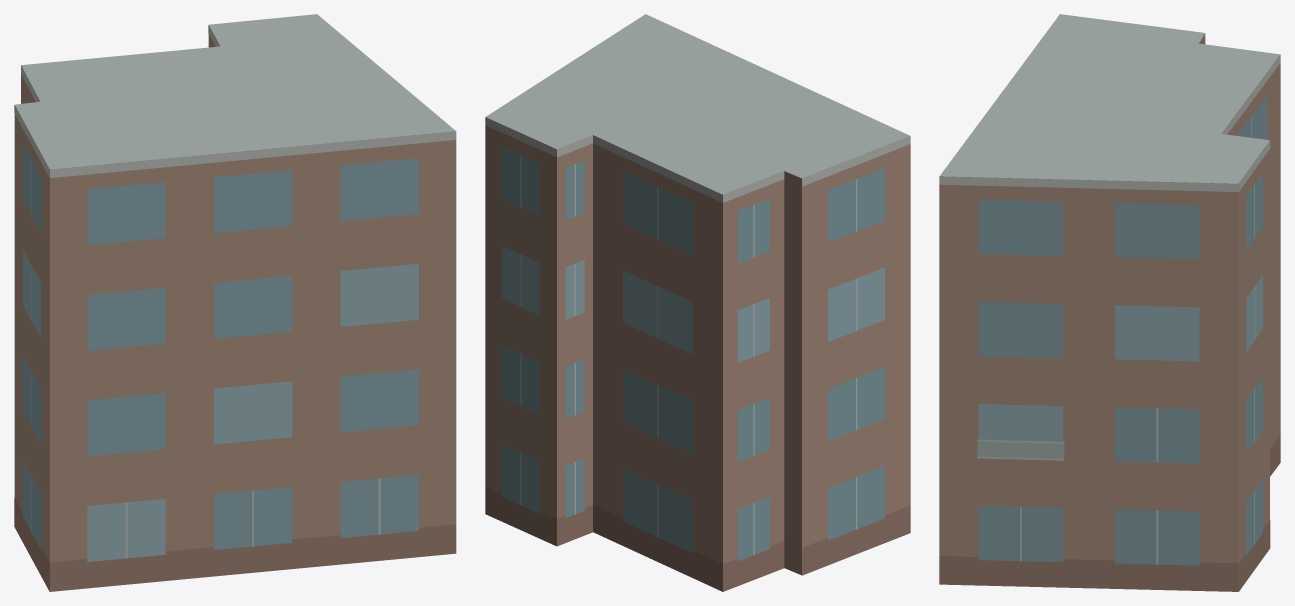
Rendered from survey-upis-33011773.glb.
3 views of the same model, side by side, from view 1: azimuth 30°, elevation 25°; view 2: azimuth 150°, elevation 25°; view 3: azimuth 270°, elevation 25° (orthographic). The views are drawn at different scales.
Visible parts, largest first — view 1: survey-upis-33011773.tmp; view 2: survey-upis-33011773.tmp; view 3: survey-upis-33011773.tmp.
Boxes of the visible parts, bbox=[...] form: survey-upis-33011773.tmp: bbox=[14, 14, 456, 591]; survey-upis-33011773.tmp: bbox=[485, 14, 910, 591]; survey-upis-33011773.tmp: bbox=[939, 14, 1280, 591].
Size of the model in its own units: 10.62 by 11.9 by 9.03.
